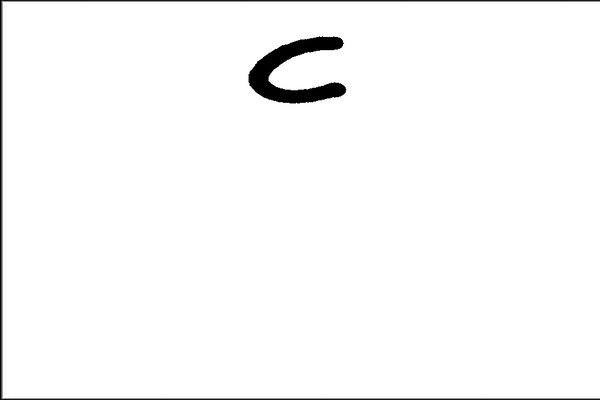C: (240, 28, 351, 111)
